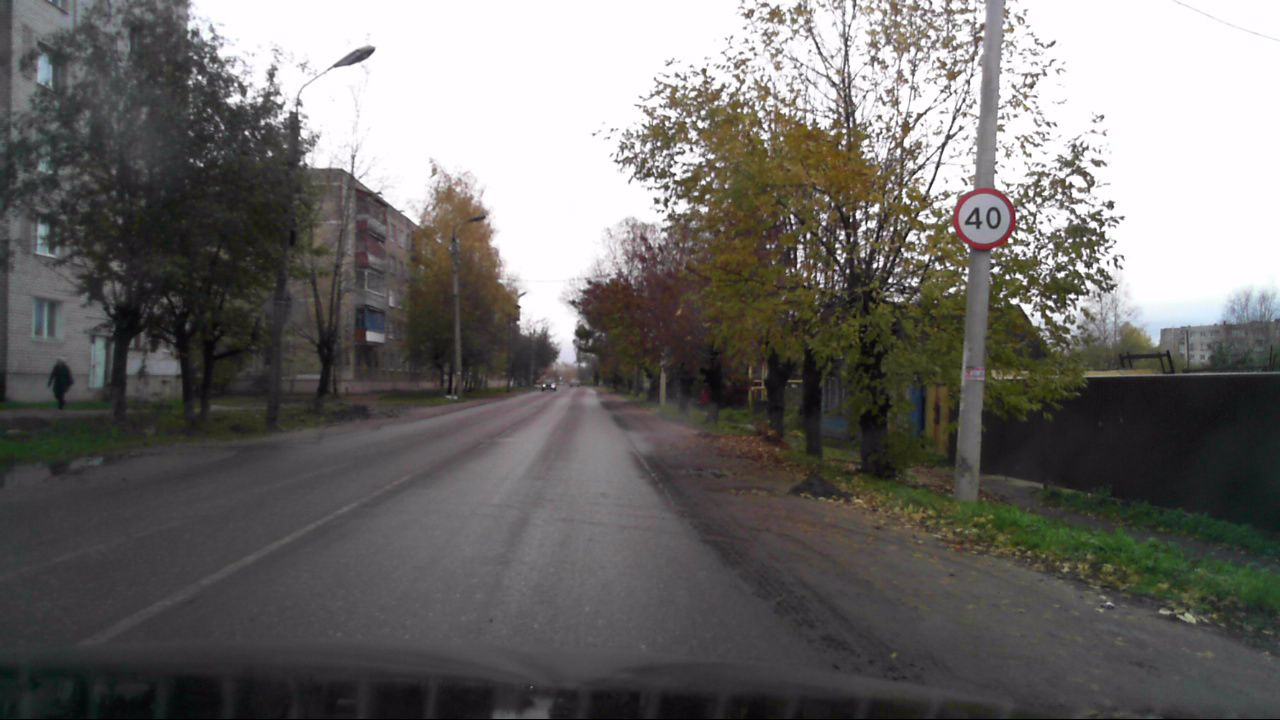speed_warning_40: (953, 186, 1017, 250)
